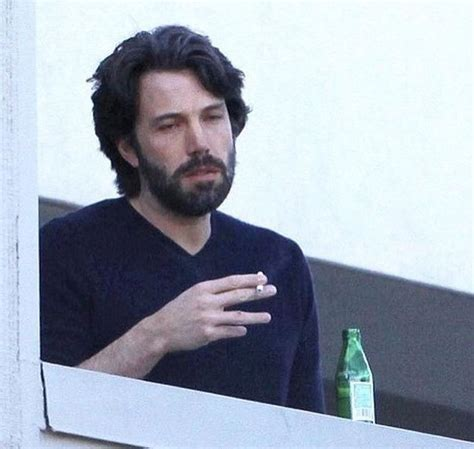cigarette: (256, 270, 265, 296)
